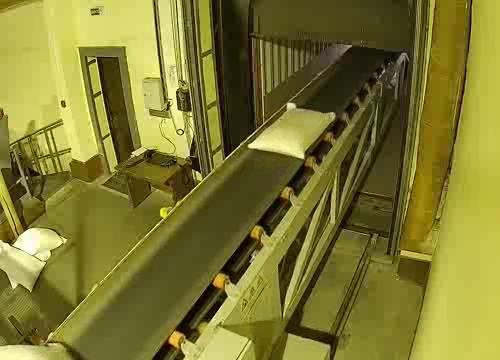bag: (245, 101, 338, 170), (1, 337, 79, 360)
